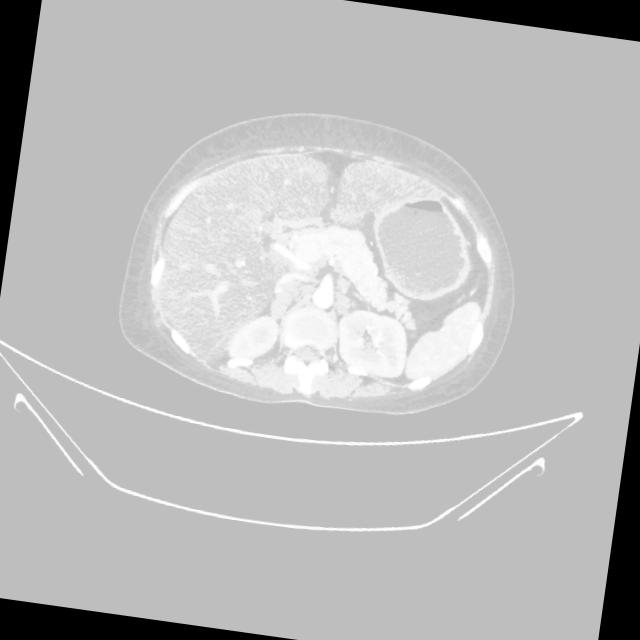NORMAL: (98, 73, 549, 443)
